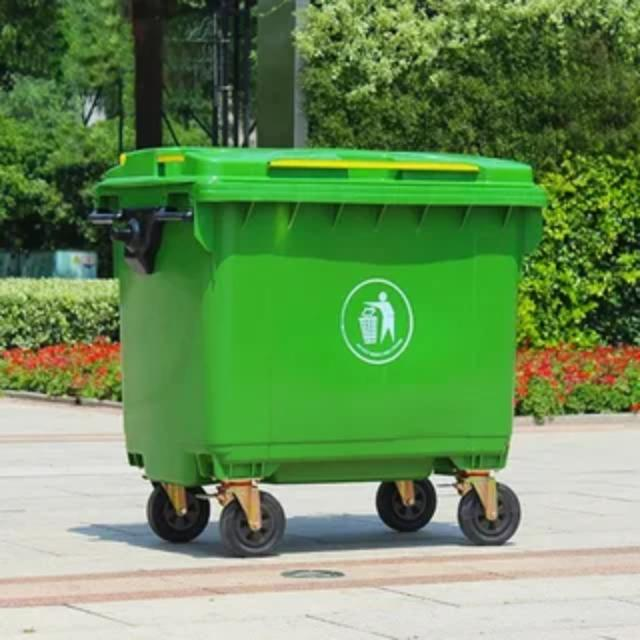Trash_Can_Closed: (95, 145, 547, 480)
